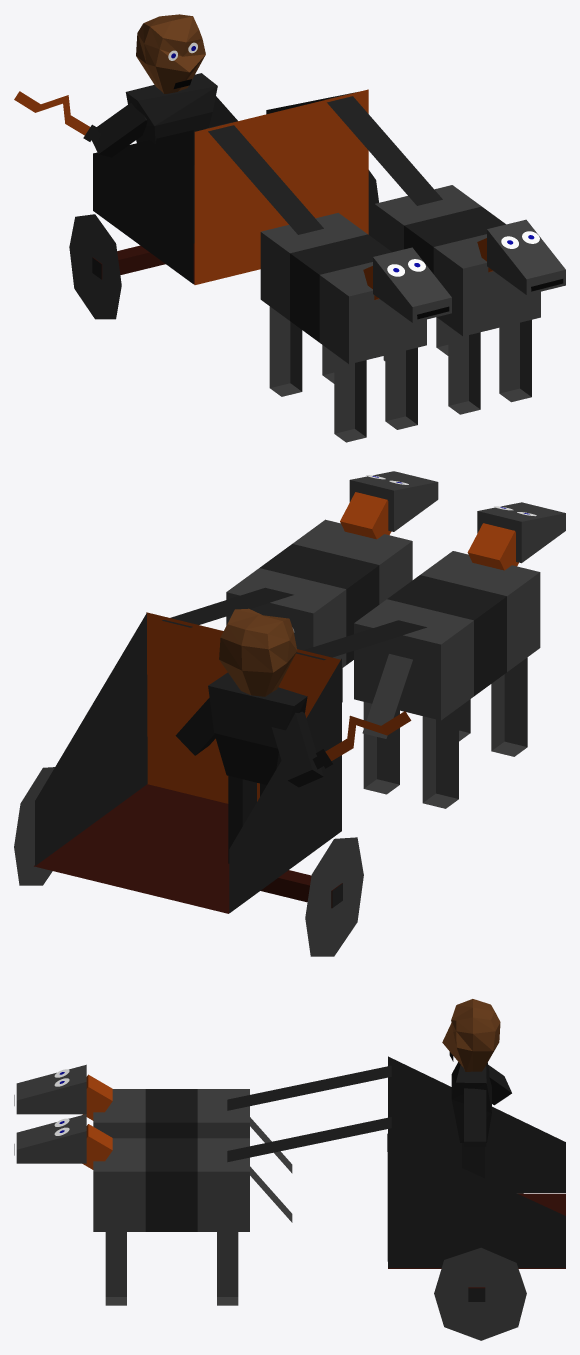
The model's file is heavychariot1fr.obj.
The picture shows the model from 3 angles, top to bottom: view 1: azimuth 30°, elevation 25°; view 2: azimuth 150°, elevation 25°; view 3: azimuth 270°, elevation 25°; orthographic projection. The views are drawn at different scales.
Visible parts, largest first — view 1: Plane.005_Plane.006, Cube.015_Cube.017, Cube.006_Cube.009, Plane.003, Plane.007_Plane.008, Cube, Cube.001, Cube.021_Cube.023, Cube.014_Cube.016, Plane.013_Plane.014, Plane.012_Plane.013, Cube.012_Cube.014 (+7 smaller); view 2: Cube.015_Cube.017, Plane.002, Plane.004, Cube.006_Cube.009, Plane.005_Plane.006, Plane.003, Cube.001, Cube, Plane.007_Plane.008, Cube.016_Cube.018, Cube.019_Cube.021, Cube.014_Cube.016 (+13 smaller); view 3: Plane.004, Cube.006_Cube.009, Plane.003, Cube.015_Cube.017, Plane.006_Plane.007, Cube, Cube.021_Cube.023, Cube.014_Cube.016, Plane.012_Plane.013, Plane.013_Plane.014, Cube.010_Cube.012, Cube.011_Cube.013 (+7 smaller).
Boxes of the visible parts, x1,y1,x2,y2 form: Plane.005_Plane.006: (194, 89, 368, 284); Cube.015_Cube.017: (260, 212, 426, 364); Cube.006_Cube.009: (374, 185, 540, 336); Plane.003: (93, 130, 193, 283); Plane.007_Plane.008: (69, 214, 121, 319); Cube: (136, 14, 205, 93); Cube.001: (125, 73, 217, 164); Cube.021_Cube.023: (373, 247, 451, 322); Cube.014_Cube.016: (487, 219, 565, 294); Plane.013_Plane.014: (324, 93, 442, 205); Plane.012_Plane.013: (206, 122, 323, 234); Cube.012_Cube.014: (448, 326, 480, 414); Cube.015_Cube.017: (354, 551, 540, 720); Plane.002: (34, 784, 229, 913); Plane.004: (35, 613, 147, 865); Cube.006_Cube.009: (226, 519, 412, 668); Plane.005_Plane.006: (146, 612, 340, 803); Plane.003: (229, 658, 341, 913); Cube.001: (208, 672, 307, 784); Cube: (219, 608, 297, 696); Plane.007_Plane.008: (305, 837, 363, 956); Cube.016_Cube.018: (422, 708, 458, 808); Cube.019_Cube.021: (491, 657, 527, 756); Cube.014_Cube.016: (349, 471, 438, 531); Plane.004: (387, 1133, 565, 1267); Cube.006_Cube.009: (93, 1138, 249, 1231); Plane.003: (388, 1056, 565, 1192); Cube.015_Cube.017: (93, 1089, 249, 1138); Plane.006_Plane.007: (434, 1247, 526, 1340); Cube: (442, 999, 500, 1071); Cube.021_Cube.023: (16, 1064, 86, 1114); Cube.014_Cube.016: (16, 1114, 86, 1163); Plane.012_Plane.013: (227, 1065, 391, 1110); Plane.013_Plane.014: (227, 1117, 391, 1162); Cube.010_Cube.012: (217, 1232, 238, 1305); Cube.011_Cube.013: (105, 1232, 126, 1305).
Size of the model in its own units: 9.32 by 7.5 by 14.9.
